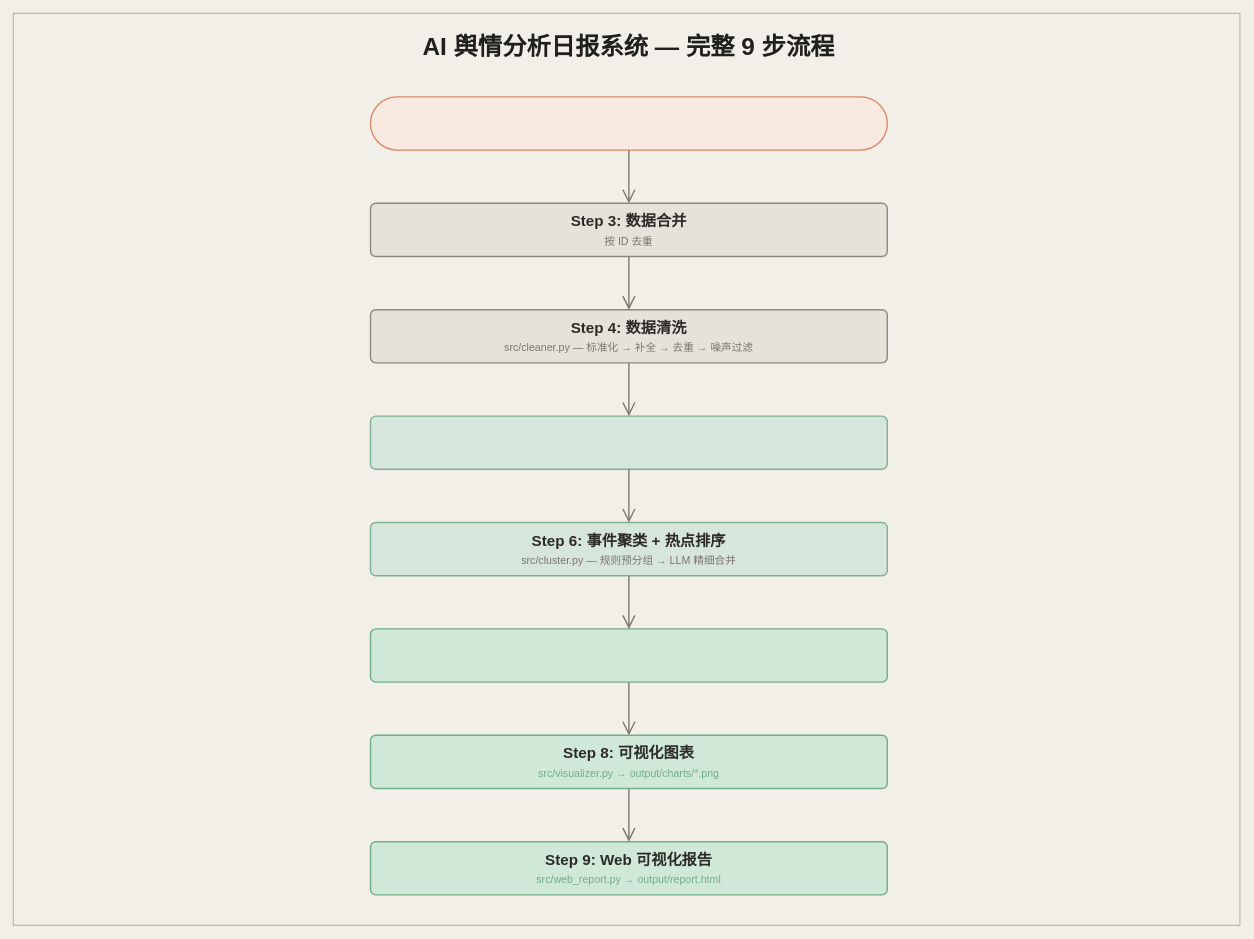
Some shapes in this 1254 by 939 pixel diagram are drawn without their labels. Here are the shapes that lost their labels. From the top down, the centre of each, then its label:
At [628,123]: "Step 1-2: 数据采集与加载 hn_collector.py + manual_chinese.json".
At [628,442]: "Step 5: 结构化抽取 src/extractor.py — 智谱 GLM 逐条调用".
At [628,655]: "Step 7: 分析报告 src/analyzer.py → output/report.md".
